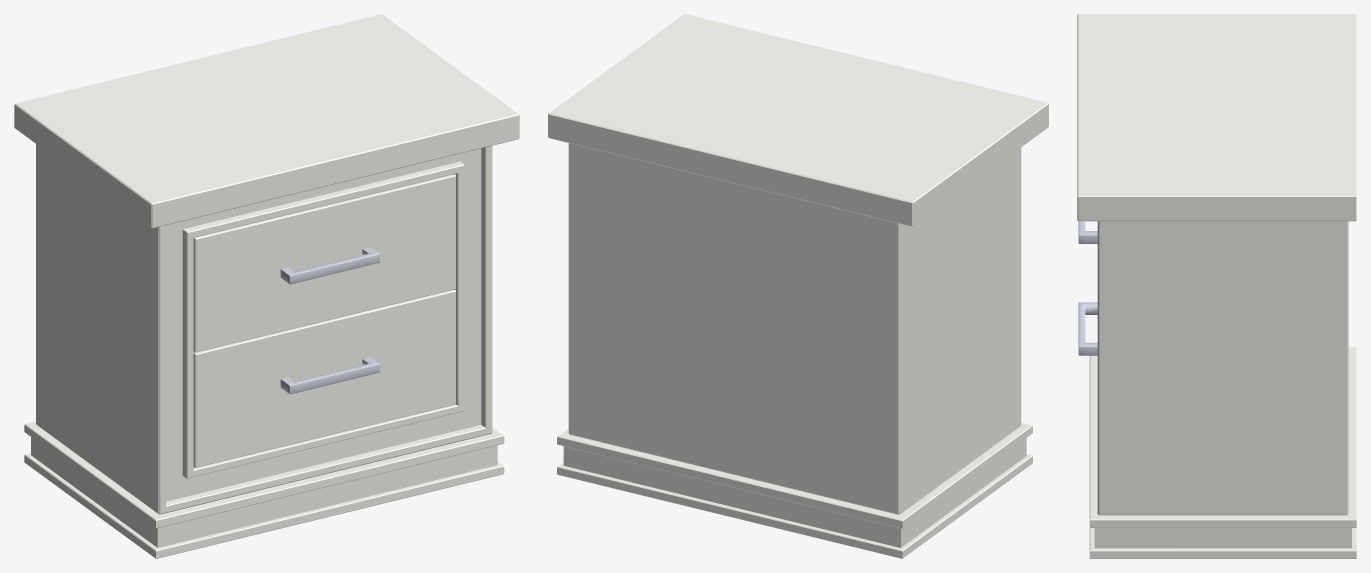
Rendered from aws_NightStand_01_visual.DAE.
3 views of the same model, side by side, from view 1: azimuth 30°, elevation 25°; view 2: azimuth 150°, elevation 25°; view 3: azimuth 270°, elevation 25° (orthographic). The views are drawn at different scales.
Visible parts, largest first — view 1: aws_NightStand_01_visual; view 2: aws_NightStand_01_visual; view 3: aws_NightStand_01_visual.
Boxes of the visible parts, x1,y1,x2,y2 form: aws_NightStand_01_visual: (14,14,519,558); aws_NightStand_01_visual: (548,14,1048,558); aws_NightStand_01_visual: (1077,14,1356,558).
Size of the model in its own units: 72.52 by 46.94 by 68.17.
Materials: 1 (1 with a texture image).
